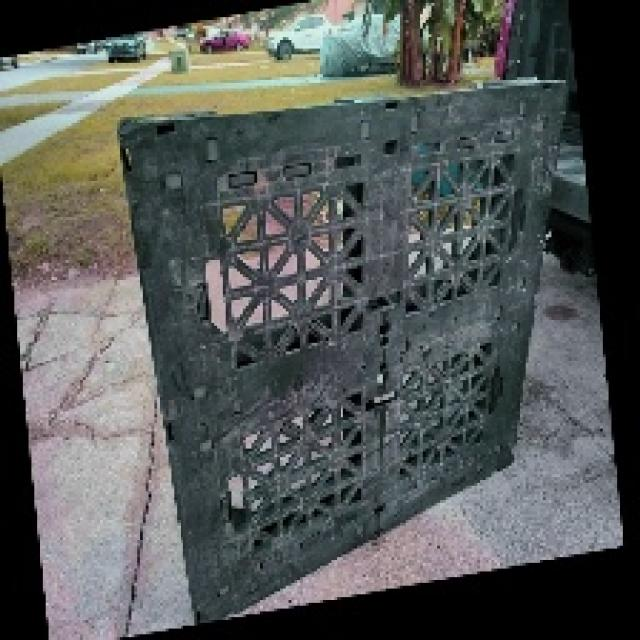igps: (110, 72, 576, 630)
